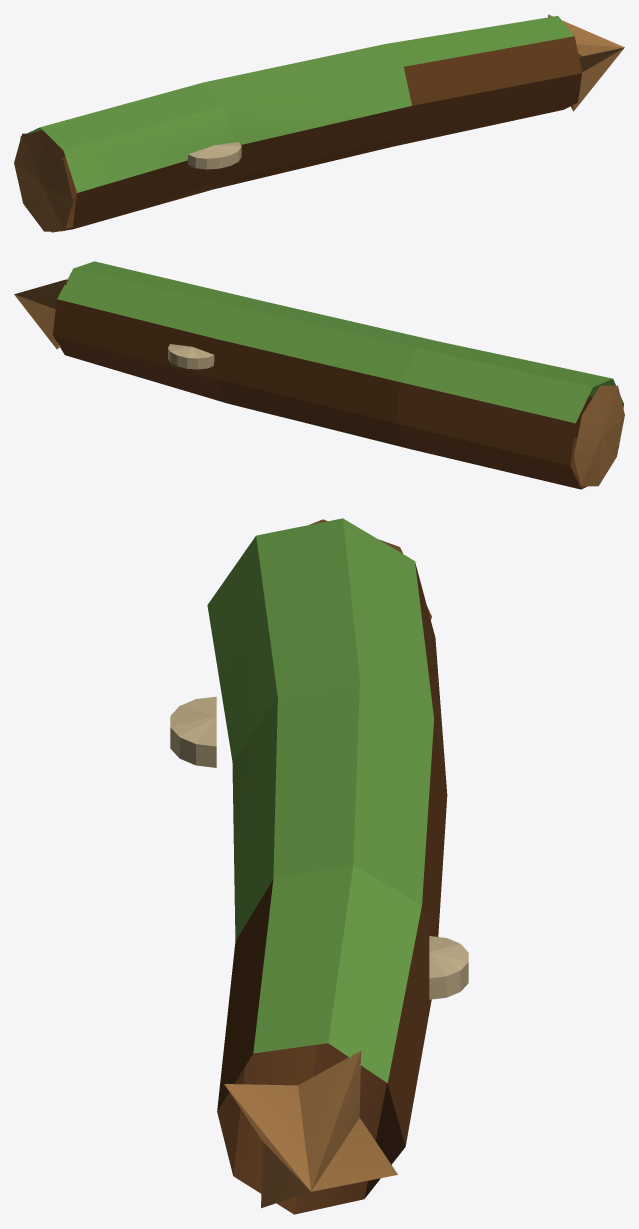
Rendered from log_fallen_mid.glb.
3 renders of one model, top to bottom at view 1: azimuth 30°, elevation 25°; view 2: azimuth 150°, elevation 25°; view 3: azimuth 270°, elevation 25°, orthographic. The views are drawn at different scales.
Bounding box in the file's own units: 4.54 × 0.7574 × 1.01.
